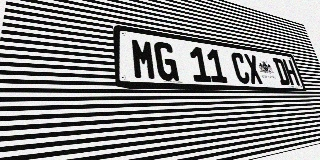1: (188, 46, 212, 82), (205, 48, 228, 83)
C: (230, 52, 251, 84)
D: (272, 58, 291, 85)
G: (153, 41, 179, 81)
H: (282, 59, 300, 86)
M: (130, 38, 157, 80)
X: (243, 54, 264, 84)
